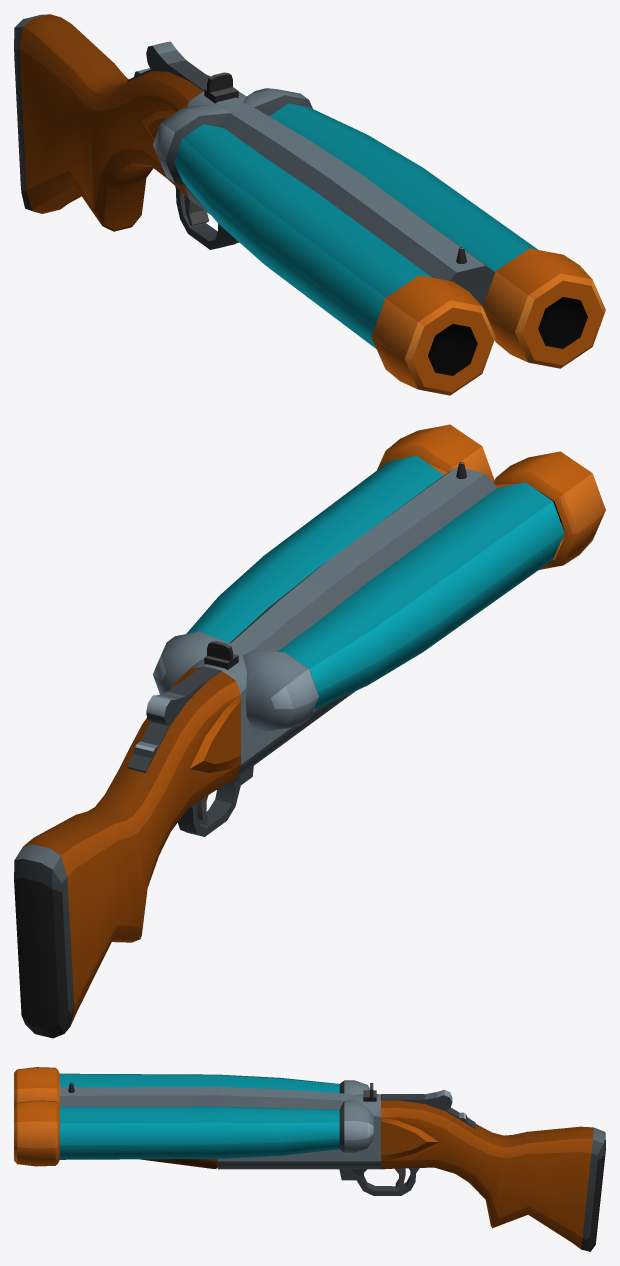
Rendered from Weapon_SG02_G01END.fbx.
3 renders of one model, top to bottom at view 1: azimuth 30°, elevation 25°; view 2: azimuth 150°, elevation 25°; view 3: azimuth 270°, elevation 25°, orthographic. The views are drawn at different scales.
Visible parts, largest first — view 1: Weapon_SG02_G01END; view 2: Weapon_SG02_G01END; view 3: Weapon_SG02_G01END.
Part boxes in pixels (x1=…): Weapon_SG02_G01END: x1=14, y1=14, x2=605, y2=395; Weapon_SG02_G01END: x1=14, y1=424, x2=605, y2=1038; Weapon_SG02_G01END: x1=14, y1=1067, x2=605, y2=1251.
Size of the model in its own units: 3.09 by 3.79 by 12.25.
